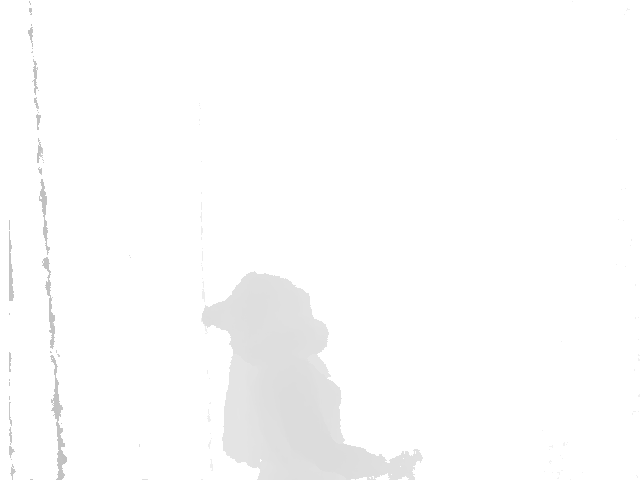head: (202, 273, 329, 365)
person: (202, 273, 424, 480)
